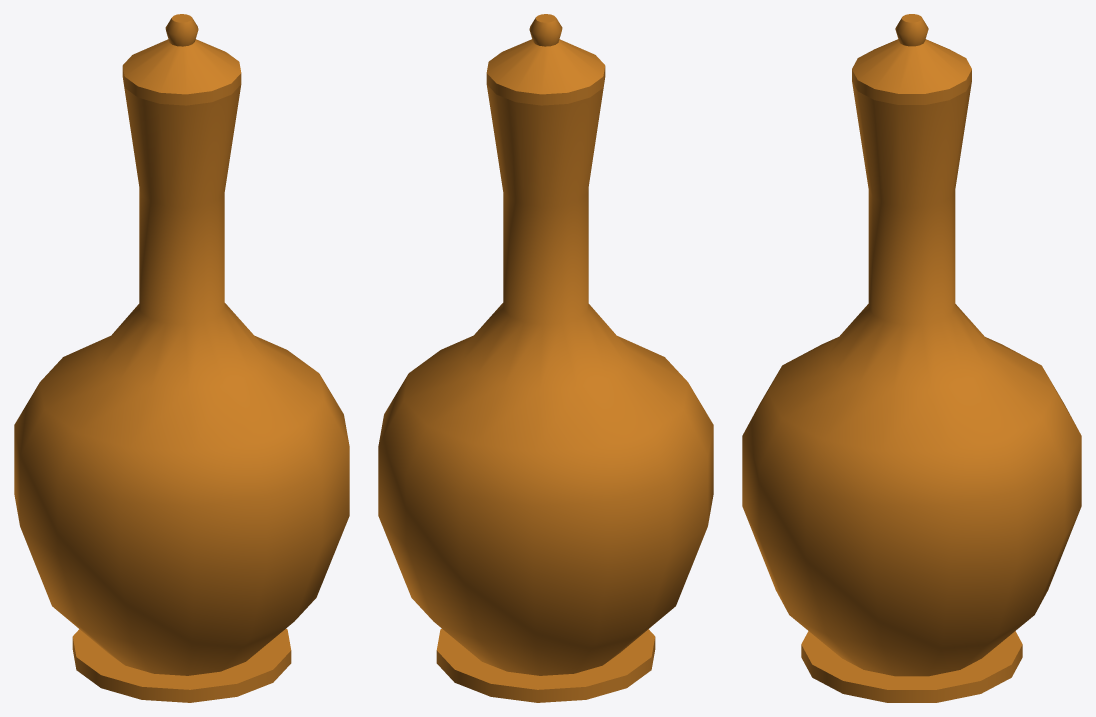
The model's file is SM_vase_arabian_01.fbx.
3 views of the same model, side by side, from view 1: azimuth 30°, elevation 25°; view 2: azimuth 150°, elevation 25°; view 3: azimuth 270°, elevation 25° (orthographic).
Parts seen in each view (by area): view 1: Object003; view 2: Object003; view 3: Object003.
Part boxes in pixels (box(x1,y1,x2,y2)): Object003: box(14, 14, 349, 702); Object003: box(378, 14, 713, 702); Object003: box(742, 14, 1081, 702).
Bounding box in the file's own units: 17.85 × 18.31 × 38.03.
